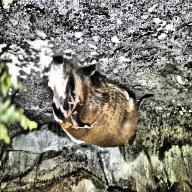boar: (46, 56, 155, 150)
